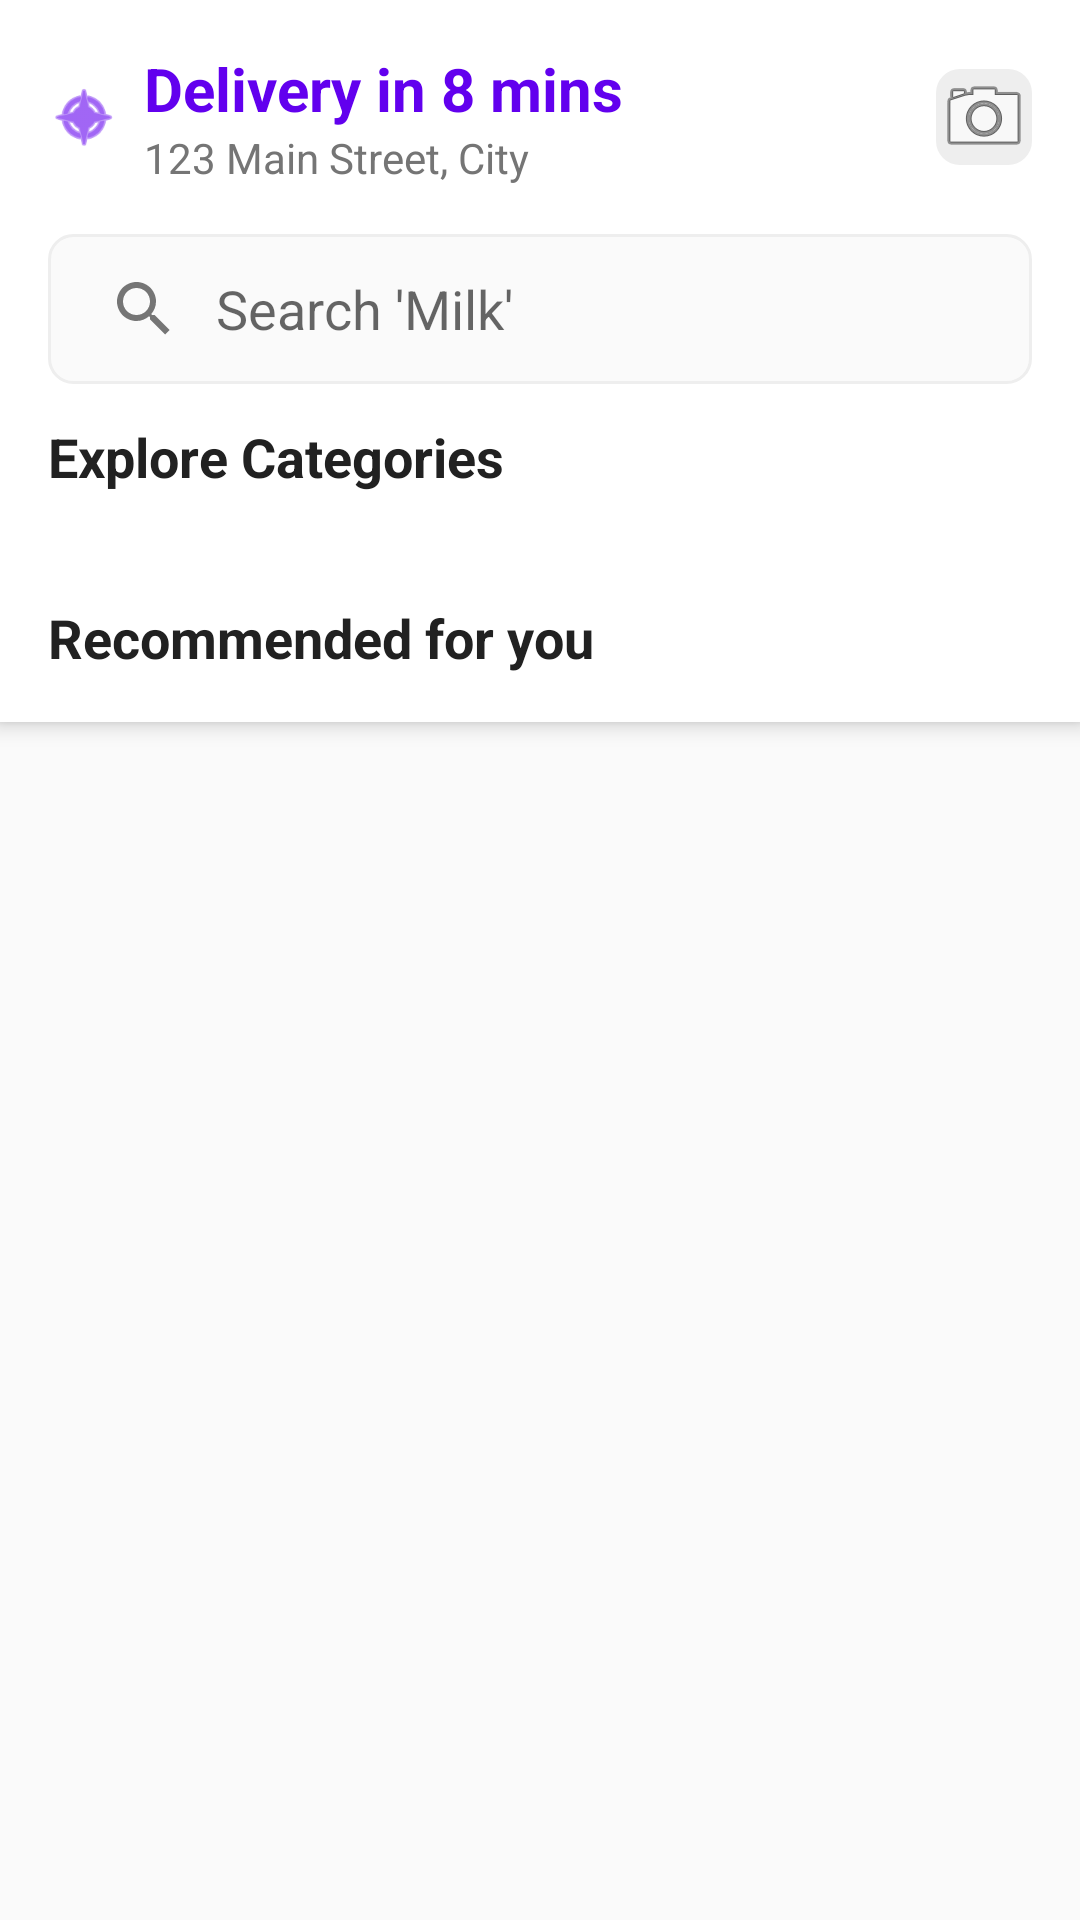

Locate icon controls on the screen. Image size 1080 × 1920, boxes as (x1, y1, x2, y2).
camera: (947, 86, 1021, 145)
compass: (55, 89, 112, 146)
